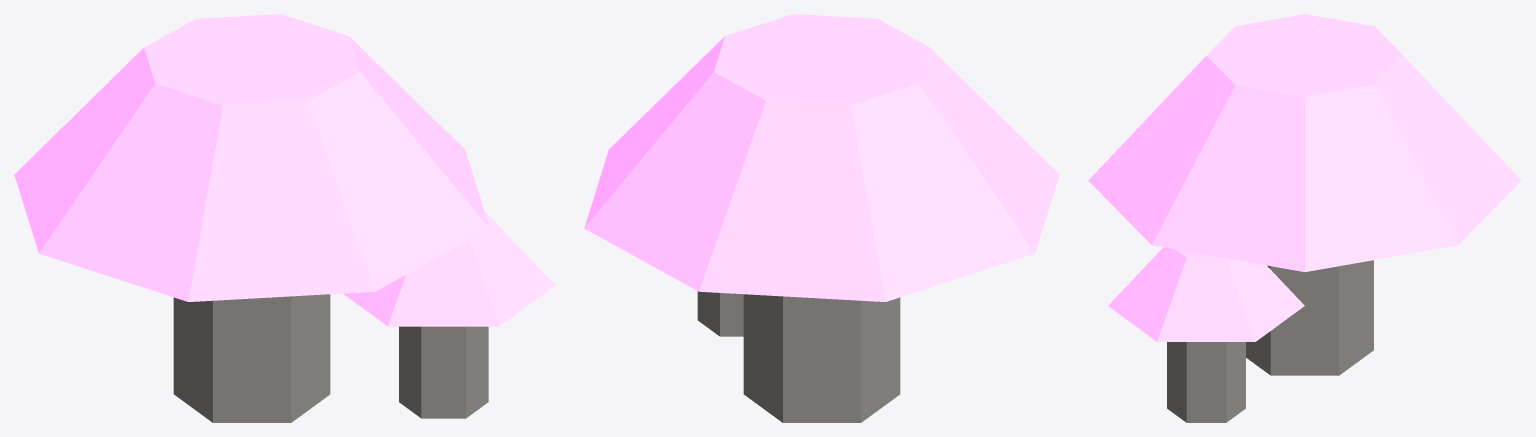
Rendered from biomassa.glb.
The picture shows the model from 3 angles, left to right: view 1: azimuth 30°, elevation 25°; view 2: azimuth 150°, elevation 25°; view 3: azimuth 270°, elevation 25°; orthographic projection. The views are drawn at different scales.
Visible parts, largest first — view 1: biomassa; view 2: biomassa; view 3: biomassa.
Part boxes in pixels (bbox=[...]): biomassa: bbox=[14, 14, 555, 422]; biomassa: bbox=[584, 14, 1059, 422]; biomassa: bbox=[1088, 14, 1521, 422].
Size of the model in its own units: 0.2233 by 0.165 by 0.22.
